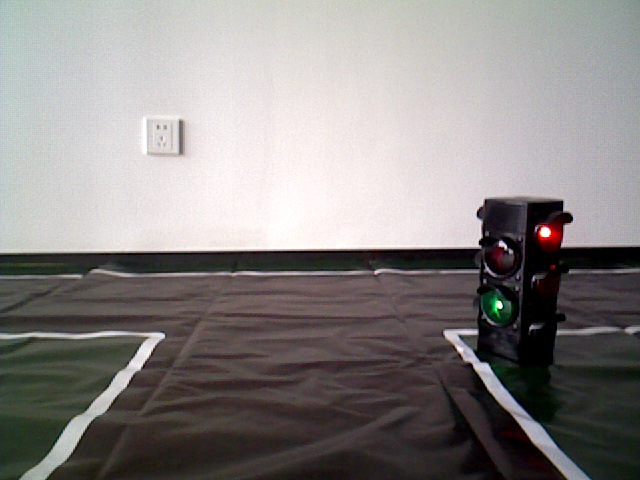red: (483, 203, 562, 357)
